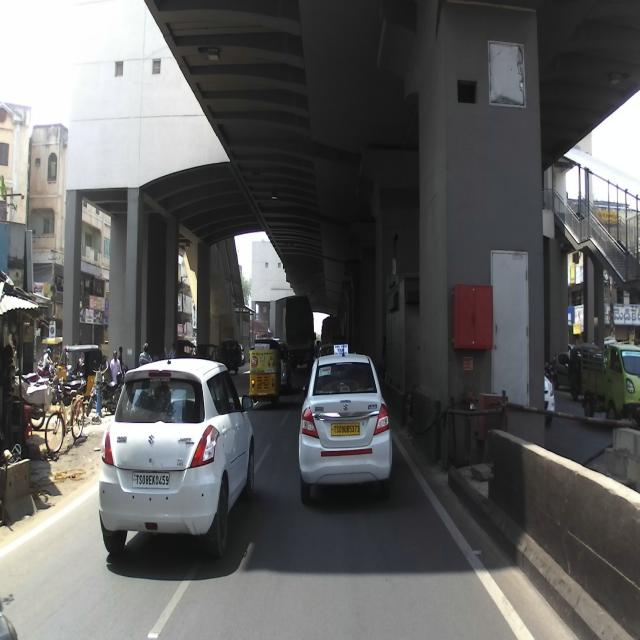Car_Maruti-Suzuki: (98, 358, 255, 560), (298, 351, 394, 503)
autorickshaw: (53, 344, 102, 404)
motorcycle: (9, 374, 54, 432)
